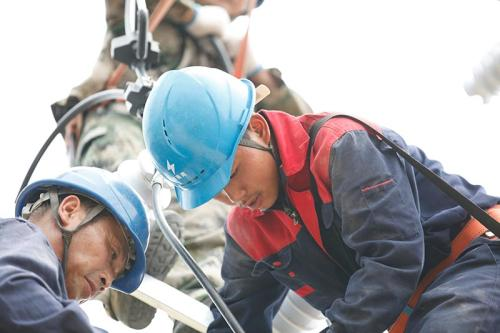hard-hat: (141, 65, 257, 209), (19, 165, 151, 255)
mask: (141, 65, 257, 209)
person: (141, 65, 500, 333), (49, 0, 314, 332), (1, 165, 151, 333)
